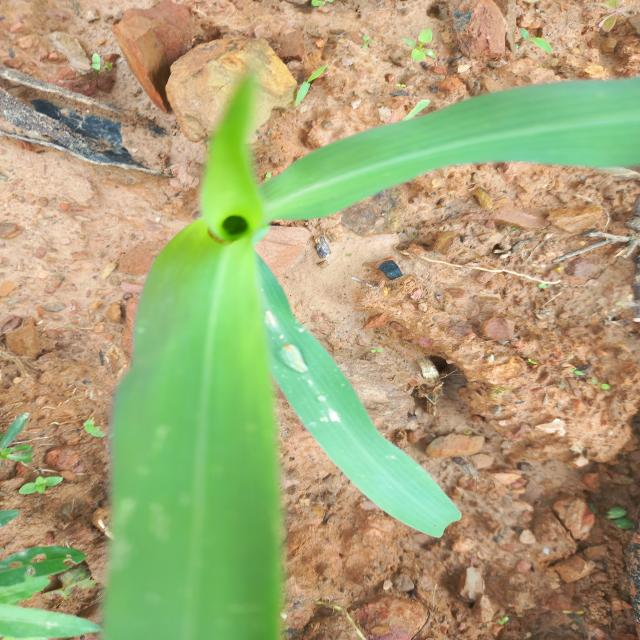maize: (94, 105, 640, 640)
weed: (2, 421, 83, 597)
